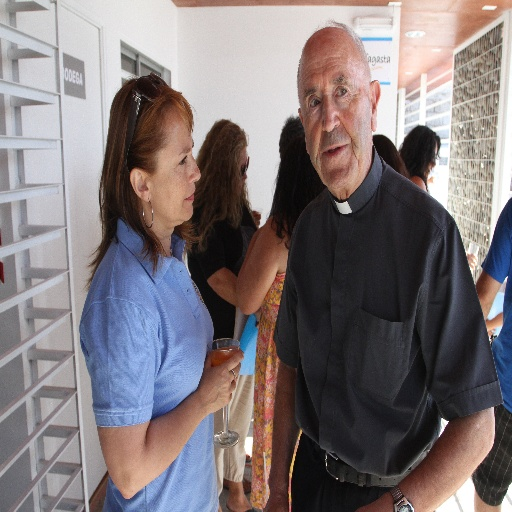hand: (200, 352, 244, 419), (352, 493, 396, 511), (465, 251, 478, 272), (484, 316, 495, 336), (249, 209, 260, 227)
